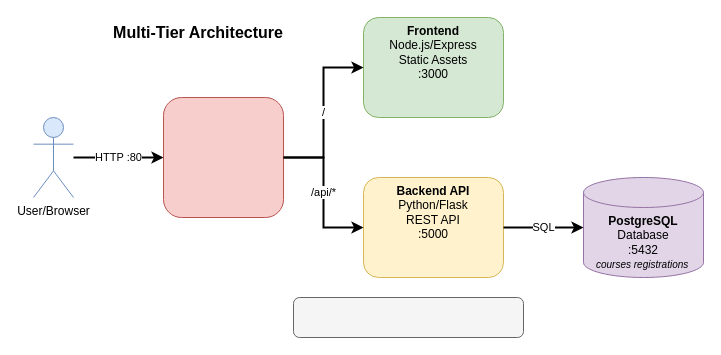
The diagram is 721 pixels wide and 355 high, and some of its shapes have lost their labels. Here are the shapes that lost their labels. From the top down, the centre of each, then its label:
At [223,157]: "nginx Reverse Proxy :80".
At [408,317]: "All services run in Docker containers orchestrated by Docker Compose".
